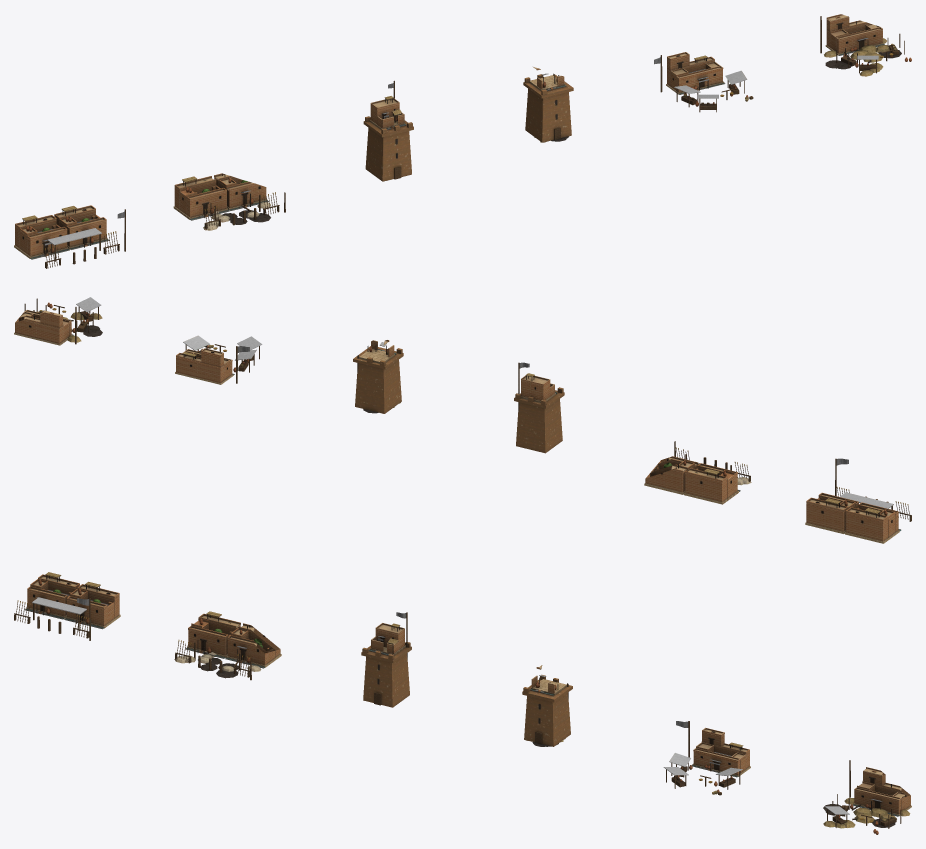
File: rts-bronze-indic.glb
The picture shows the model from 3 angles, top to bottom: view 1: azimuth 30°, elevation 25°; view 2: azimuth 150°, elevation 25°; view 3: azimuth 330°, elevation 25°; orthographic projection.
Parts seen in each view (by area): view 1: LOD0.001, LOD0, LOD0.002, LOD0.005, LOD0.004, LOD0.003; view 2: LOD0, LOD0.001, LOD0.002, LOD0.003, LOD0.005, LOD0.004; view 3: LOD0.001, LOD0, LOD0.002, LOD0.005, LOD0.004, LOD0.003.
Boxes of the visible parts, <box> form: LOD0.001: <box>173,173,285,230</box>; LOD0: <box>14,205,125,268</box>; LOD0.002: <box>363,80,413,181</box>; LOD0.005: <box>820,14,911,76</box>; LOD0.004: <box>654,52,753,112</box>; LOD0.003: <box>523,67,573,142</box>; LOD0: <box>805,458,911,543</box>; LOD0.001: <box>644,441,751,504</box>; LOD0.002: <box>514,362,564,453</box>; LOD0.003: <box>353,340,403,413</box>; LOD0.005: <box>14,297,102,345</box>; LOD0.004: <box>175,335,262,384</box>; LOD0.001: <box>174,611,281,680</box>; LOD0: <box>14,572,120,640</box>; LOD0.002: <box>361,612,411,707</box>; LOD0.005: <box>823,760,911,834</box>; LOD0.004: <box>663,721,750,795</box>; LOD0.003: <box>522,665,572,746</box>.
Size of what is drawn, in the model's own units: 16.33 by 1.48 by 1.36.
Materials: 2 (2 with a texture image).
